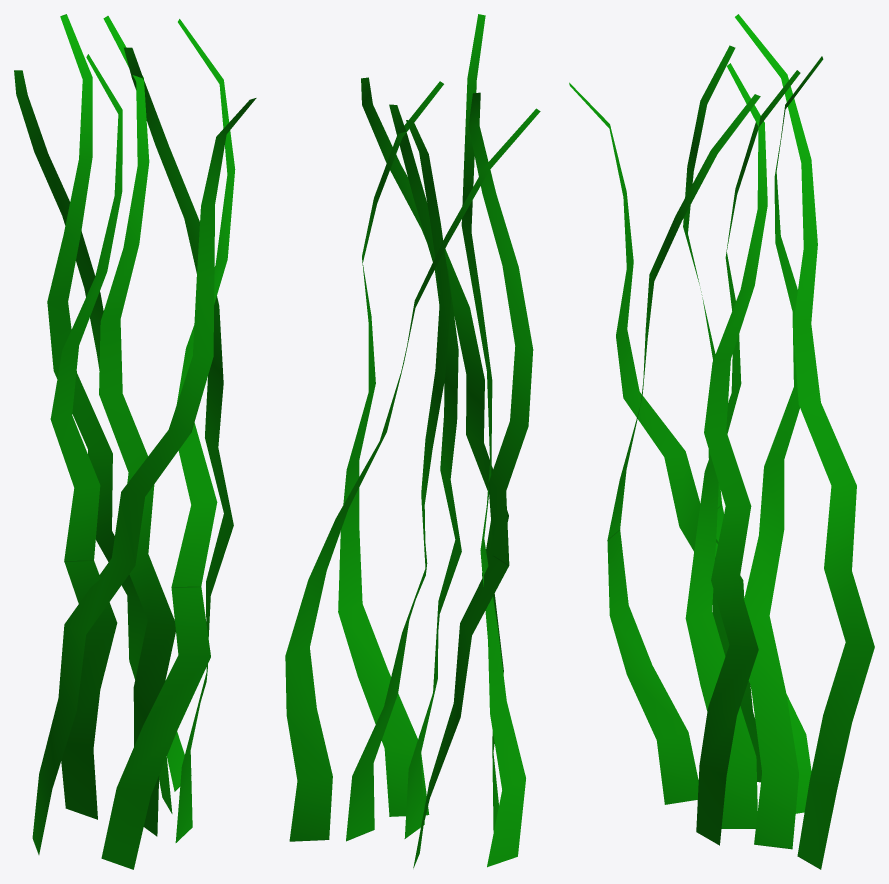
The model's file is my_mesh_Algae4.glb.
3 renders of one model, left to right at view 1: azimuth 30°, elevation 25°; view 2: azimuth 150°, elevation 25°; view 3: azimuth 270°, elevation 25°, orthographic. The views are drawn at different scales.
Parts seen in each view (by area): view 1: Algae4; view 2: Algae4; view 3: Algae4.
Part boxes in pixels (bbox=[...]): Algae4: bbox=[14, 14, 256, 869]; Algae4: bbox=[285, 14, 540, 868]; Algae4: bbox=[569, 14, 874, 869].
Size of the model in its own units: 0.5674 by 1.94 by 0.7141.
1 material, 1 textured.
